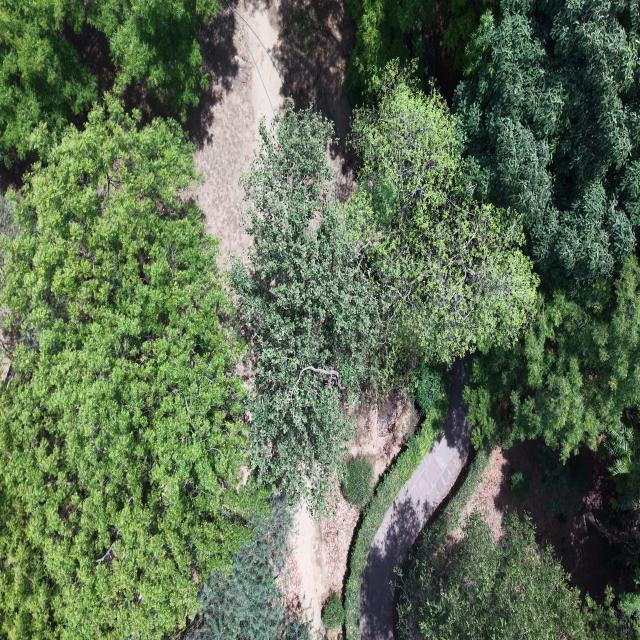DRY_AREA: (186, 0, 355, 264), (188, 0, 354, 263), (187, 0, 354, 261), (188, 0, 354, 261), (463, 441, 629, 602), (193, 2, 283, 259), (283, 495, 359, 637)
PATHWAYS: (360, 359, 470, 639)
VEGETATION_TREE: (0, 0, 639, 639), (0, 67, 534, 638), (352, 0, 639, 496), (0, 99, 263, 639), (232, 64, 537, 510), (233, 66, 536, 510), (455, 0, 639, 567), (451, 2, 639, 508), (455, 0, 639, 507), (348, 63, 538, 423), (232, 101, 379, 511), (351, 63, 538, 369), (444, 0, 639, 279), (455, 0, 639, 281), (466, 256, 639, 500), (0, 0, 218, 165), (399, 511, 639, 639), (479, 439, 639, 606), (345, 380, 448, 639), (345, 393, 448, 639), (399, 511, 587, 639), (186, 497, 312, 639), (396, 450, 491, 637), (399, 449, 491, 638), (0, 0, 97, 165), (87, 0, 219, 121), (346, 0, 498, 104), (347, 0, 432, 104), (418, 449, 491, 547), (527, 439, 592, 522), (437, 0, 499, 71), (604, 404, 639, 513), (586, 587, 639, 639), (412, 362, 448, 415), (342, 454, 374, 507), (0, 196, 17, 269), (322, 594, 344, 630), (510, 470, 529, 501)
